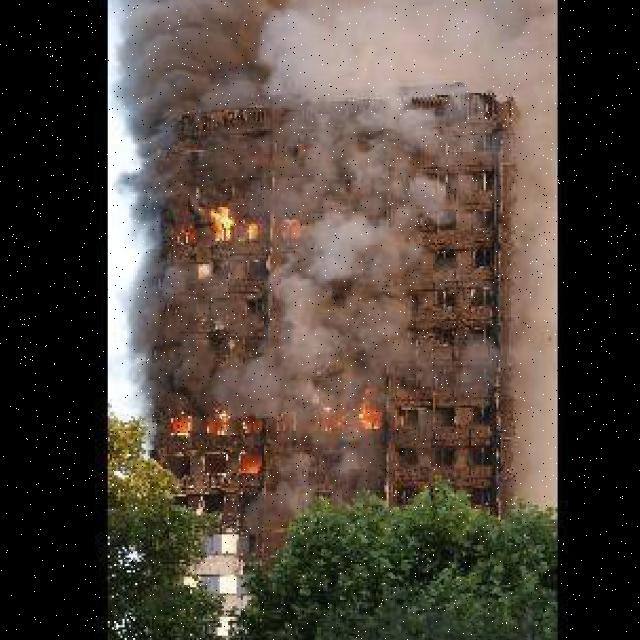fire: (167, 205, 264, 245), (164, 395, 238, 439), (348, 393, 369, 424)
smoke: (105, 0, 556, 116), (264, 118, 439, 393), (112, 118, 182, 395)
